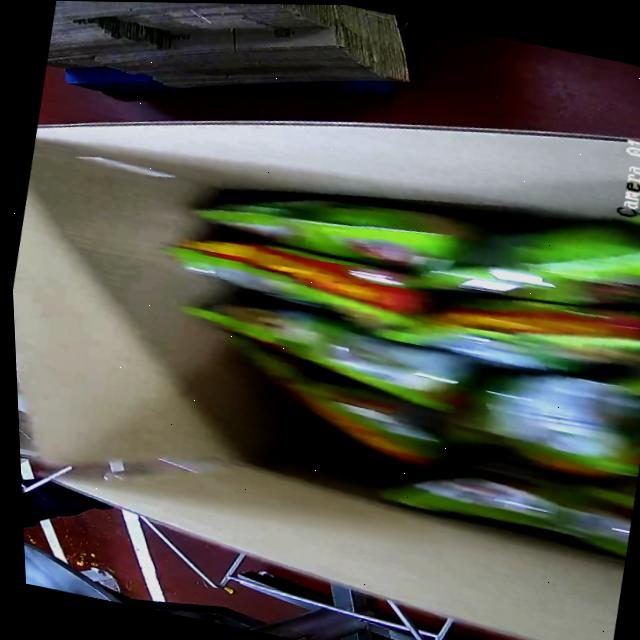YOGURT_HERB: (211, 159, 640, 556)
